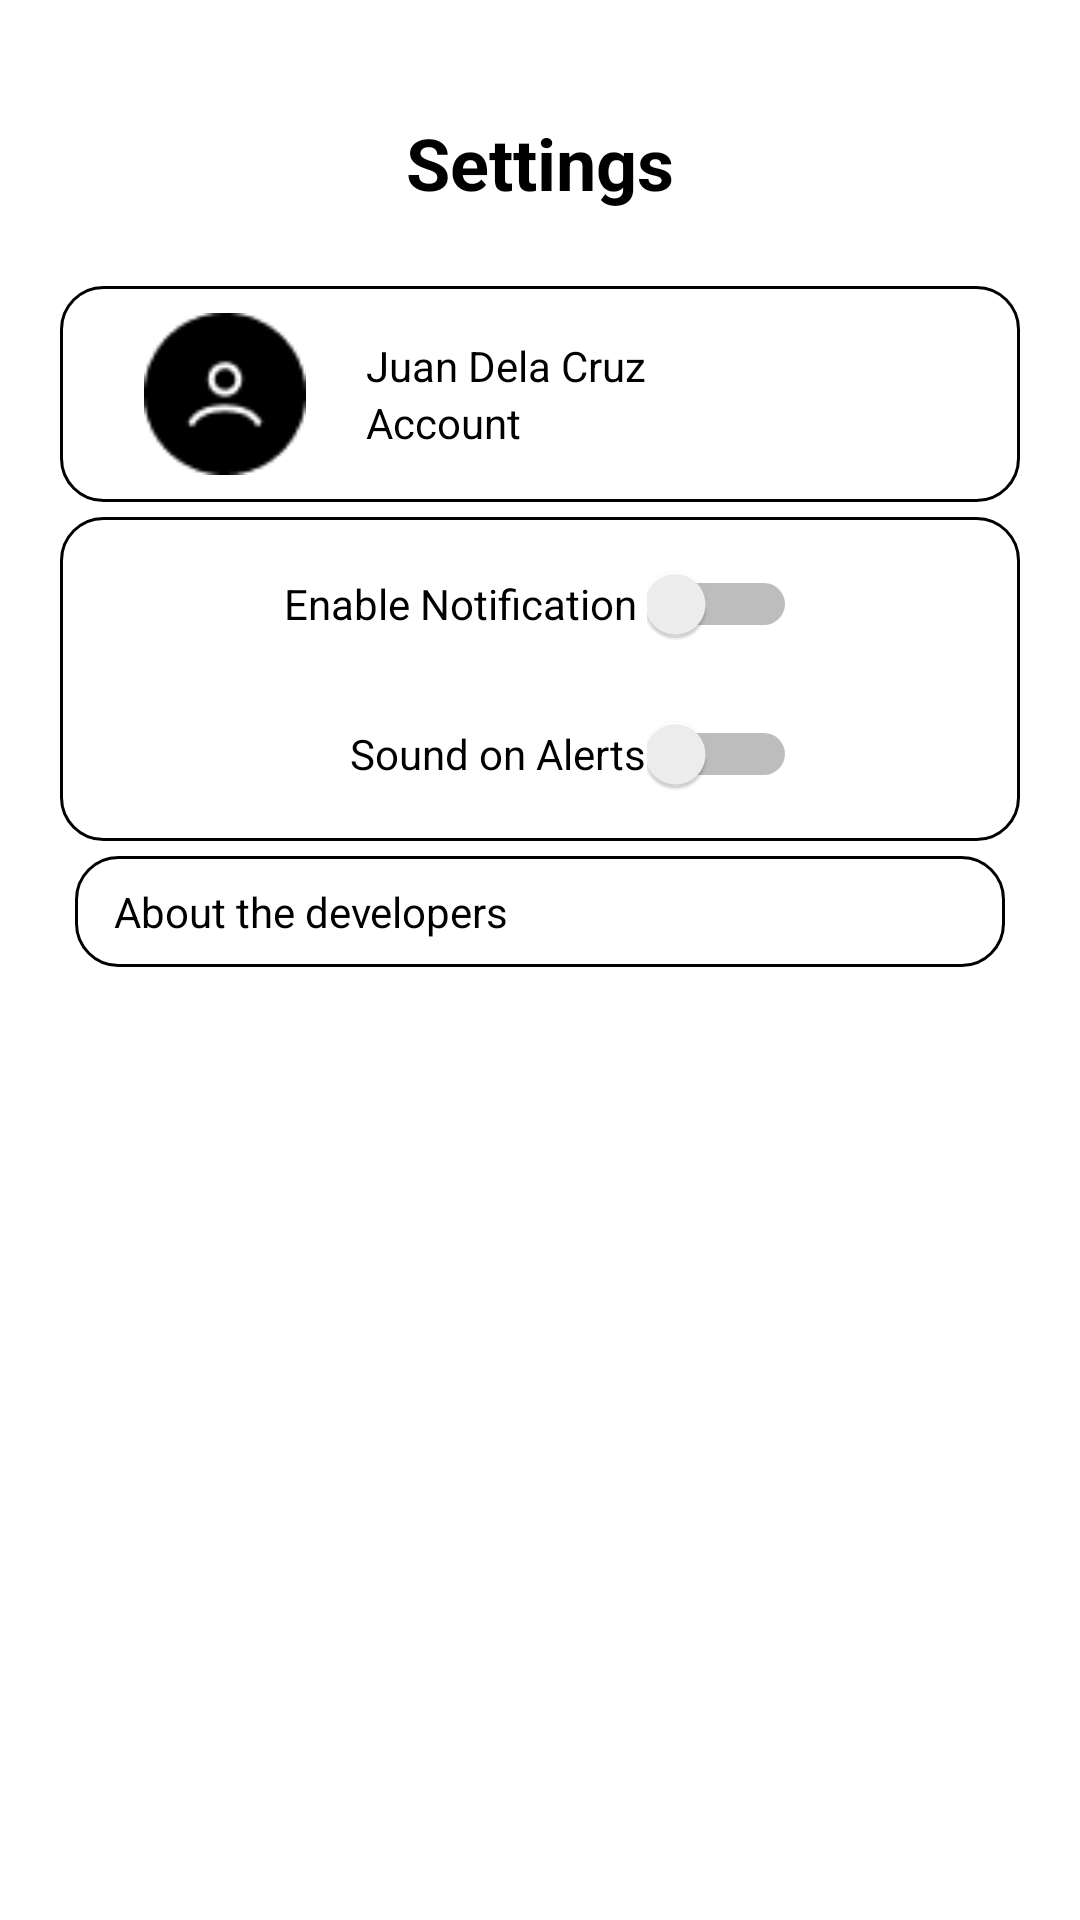

Icon click points for this 1080x1920 phone screenshot, format (x,y):
profile: (225,394)
